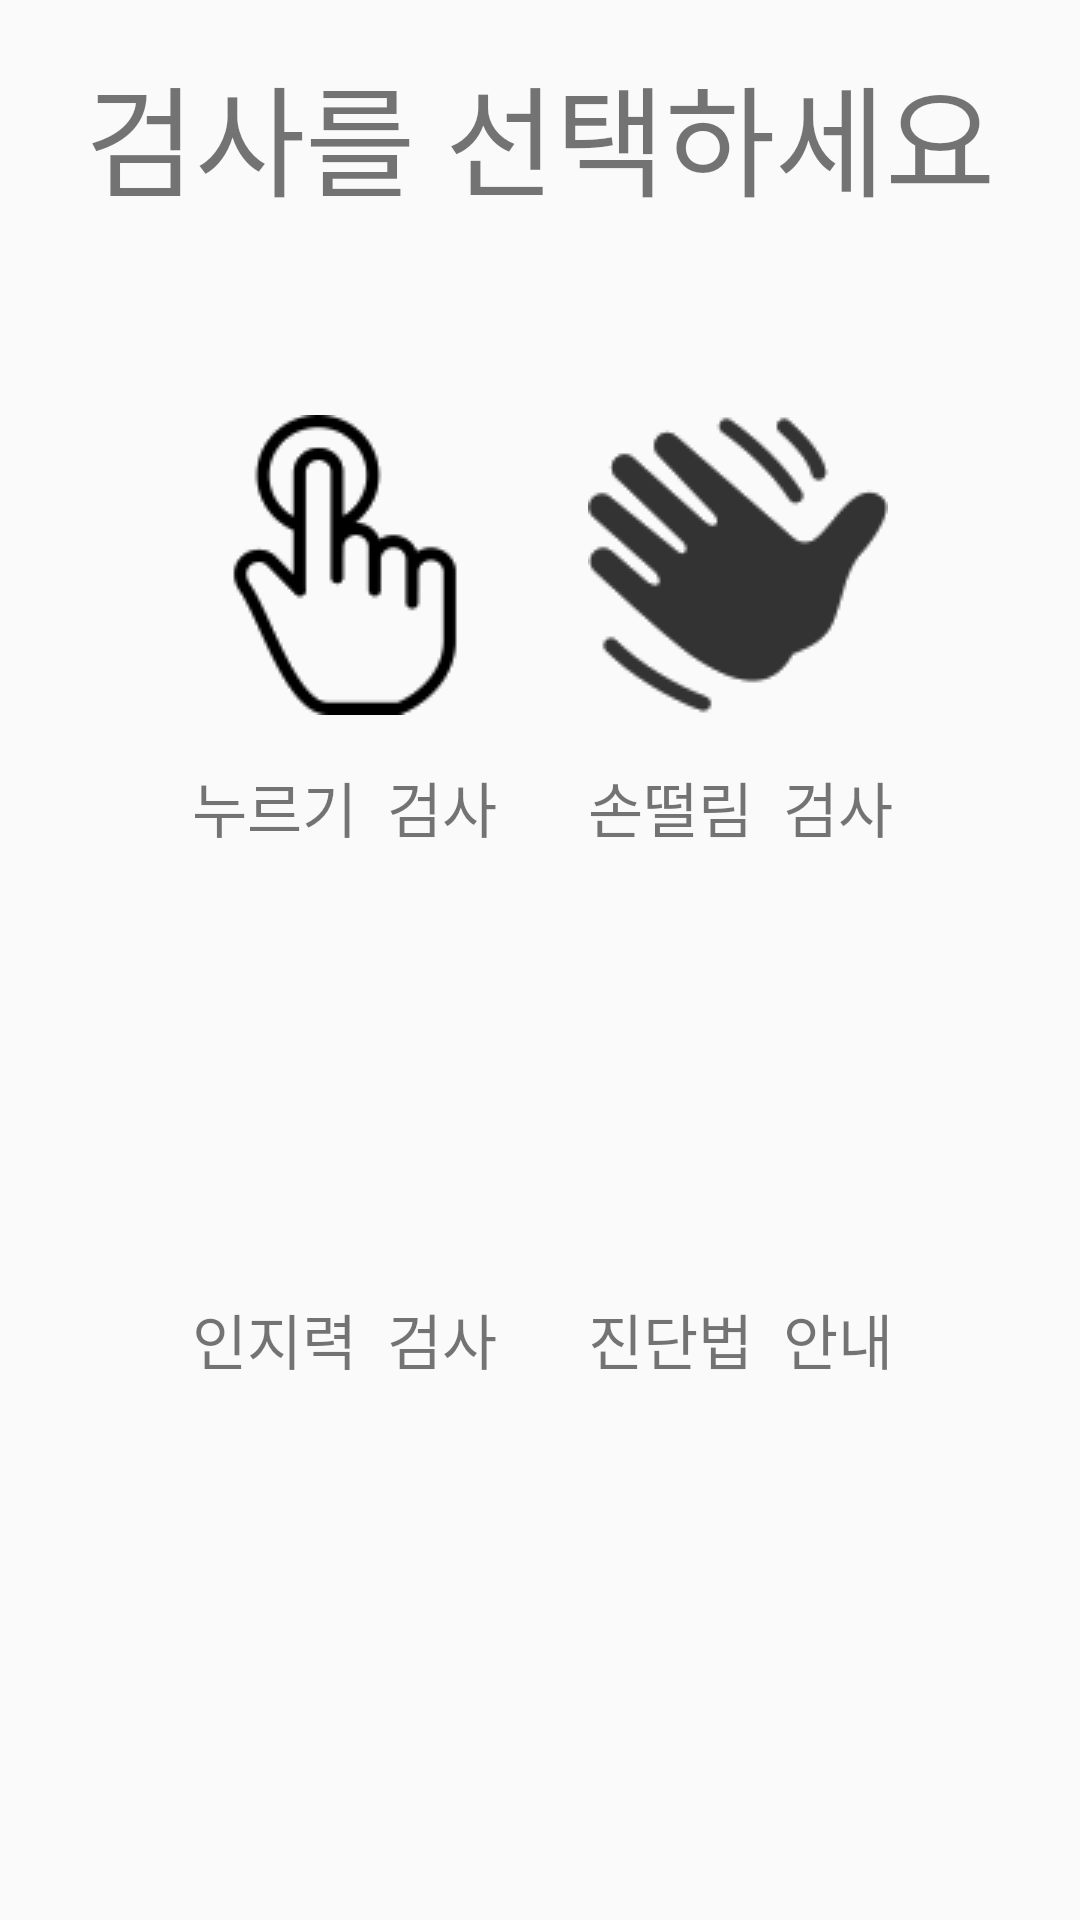

Where to tap for icons on this 1080×1920 app screen, as (x,y):
hand touch: (345,565)
